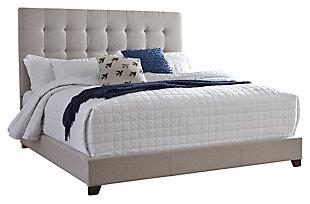bed: (9, 5, 310, 198)
